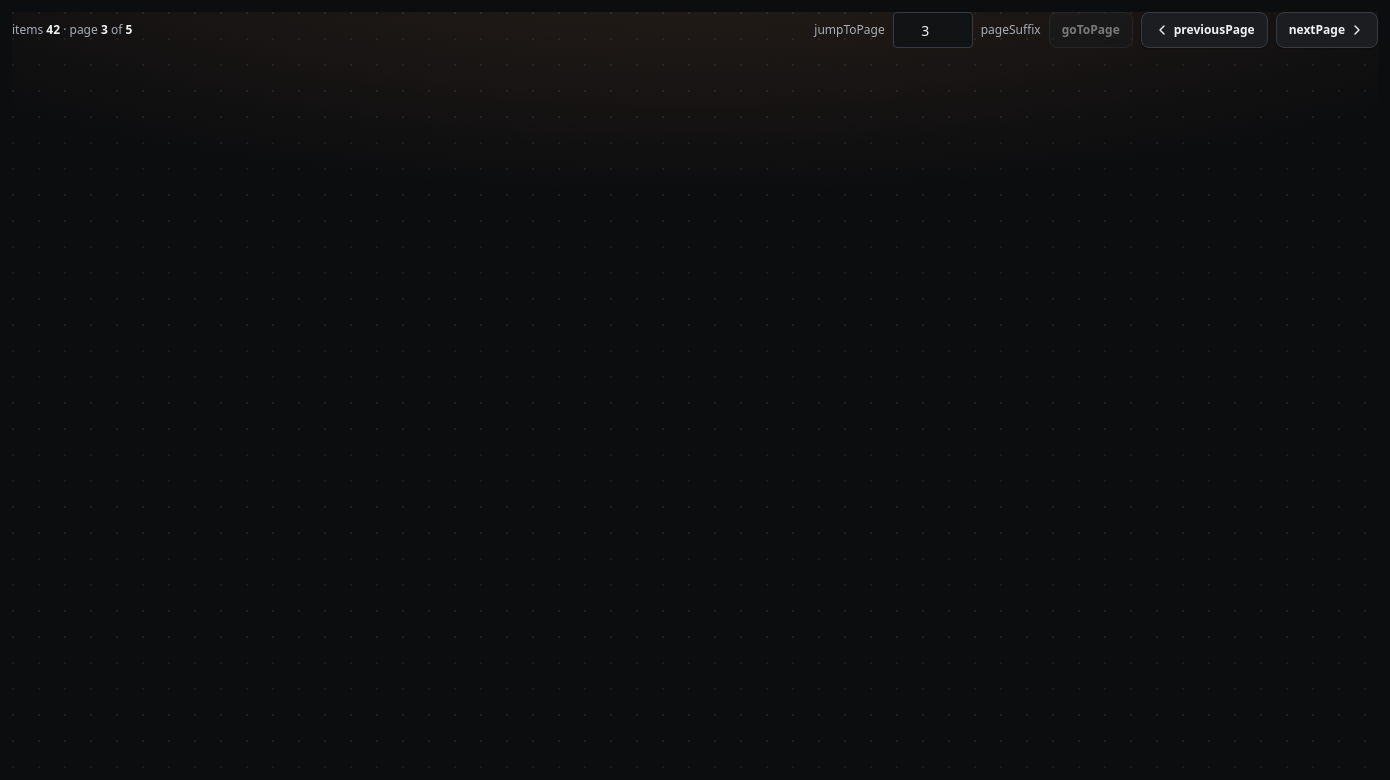
PaginationControls › resets invalid page drafts on blur and submit
The width and height of the screenshot is (1390, 780).
Clear the number field named "jumpToPageAria" at (933, 30), box [893,12,973,48]
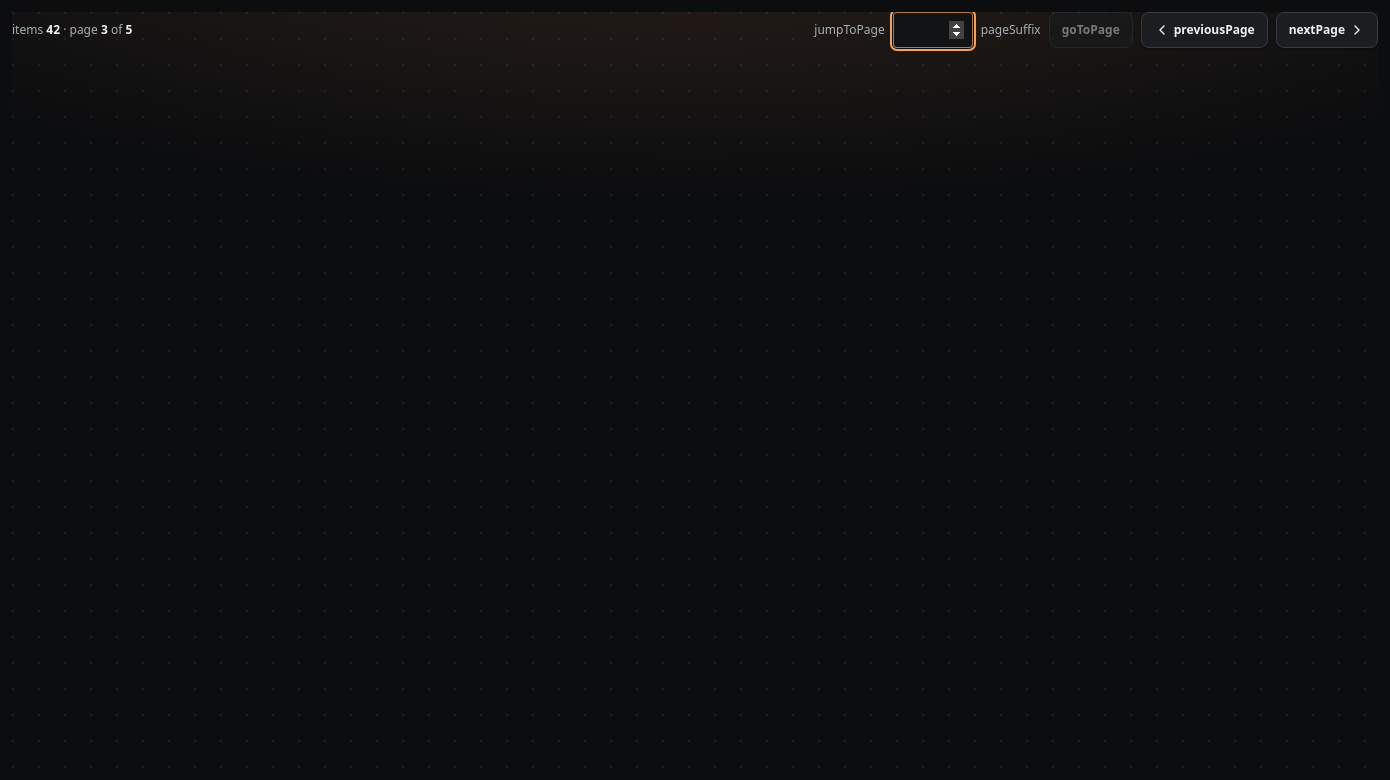
expect the button "goToPage" is disabled: met, box [1049,12,1133,48]
Leave the number field named "jumpToPageAria", box [893,12,973,48]
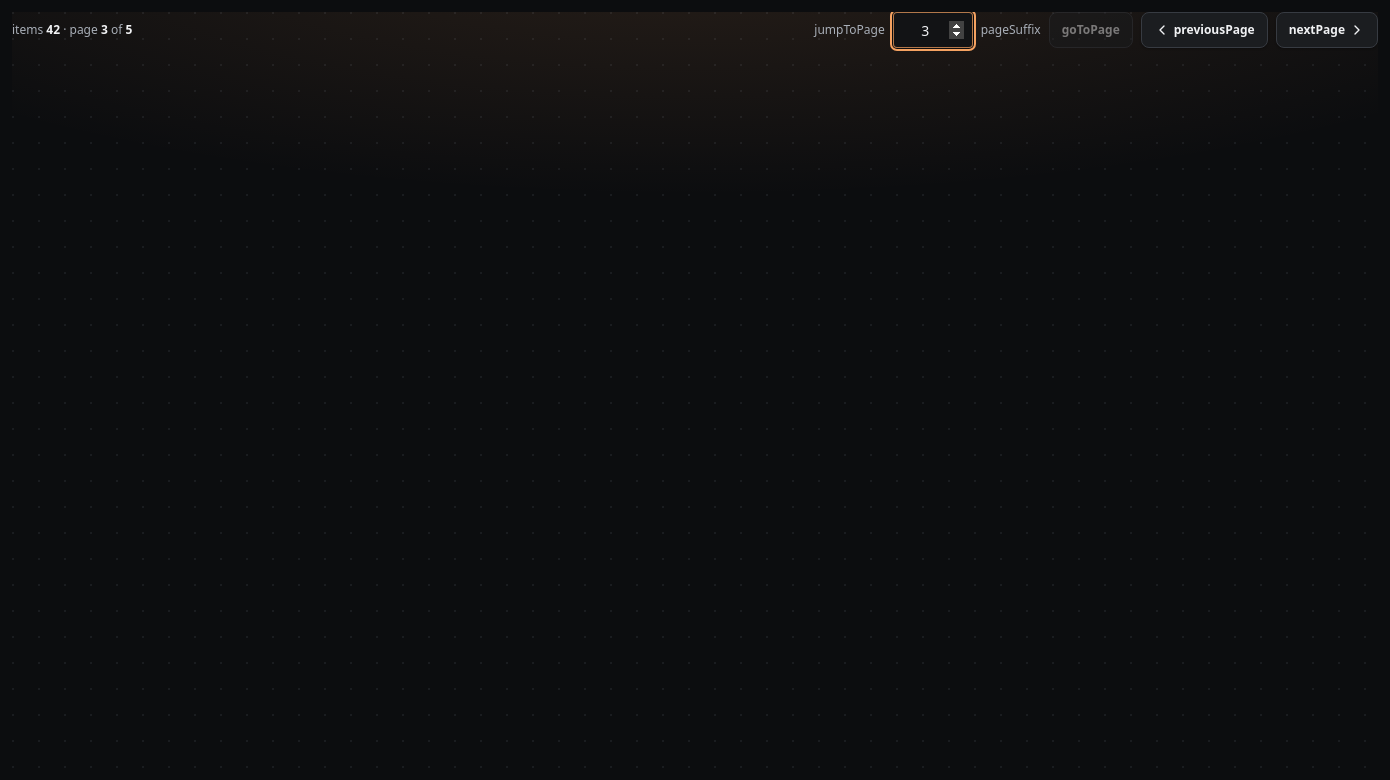
expect the number field named "jumpToPageAria" holds "3": met
Clear the number field named "jumpToPageAria" at (933, 30), box [893,12,973,48]
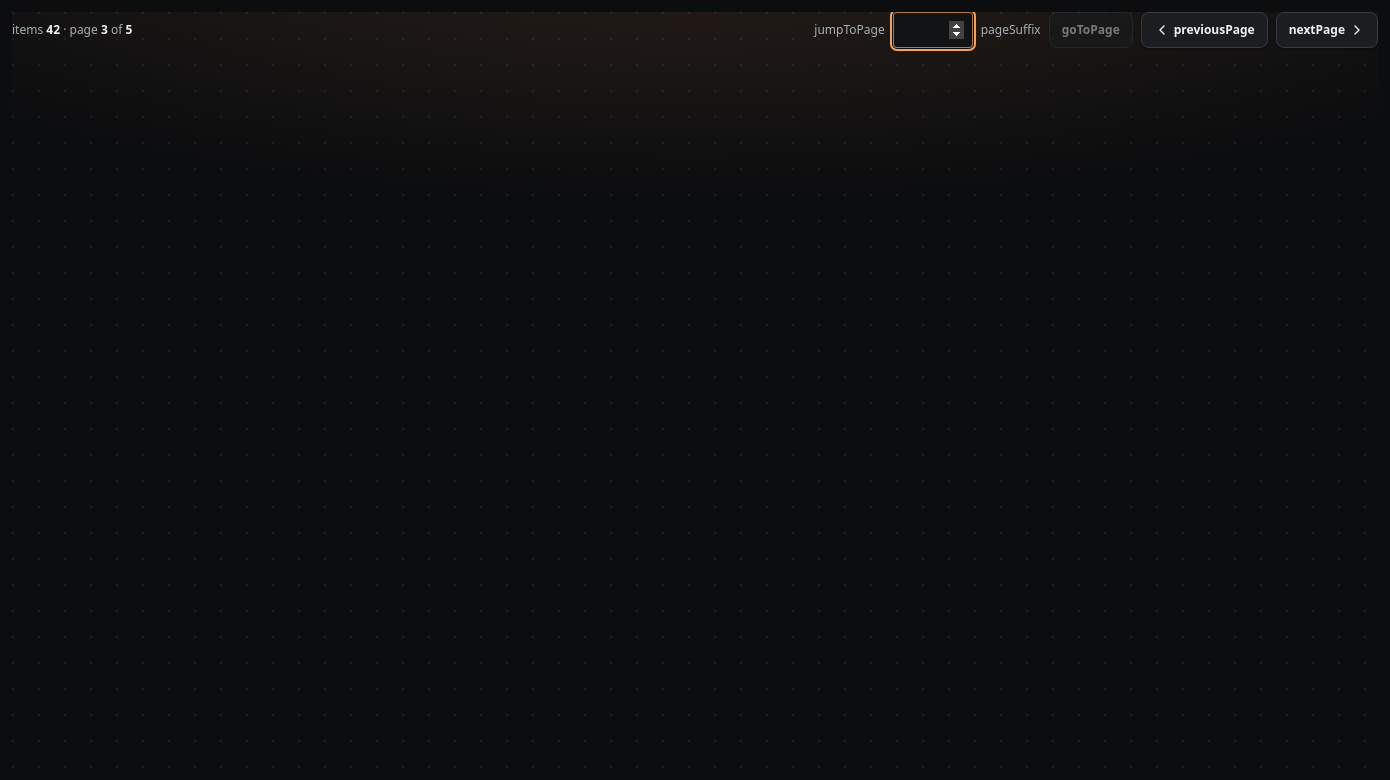
Submit the form named "jumpToPageAria", box [814,12,1378,48]
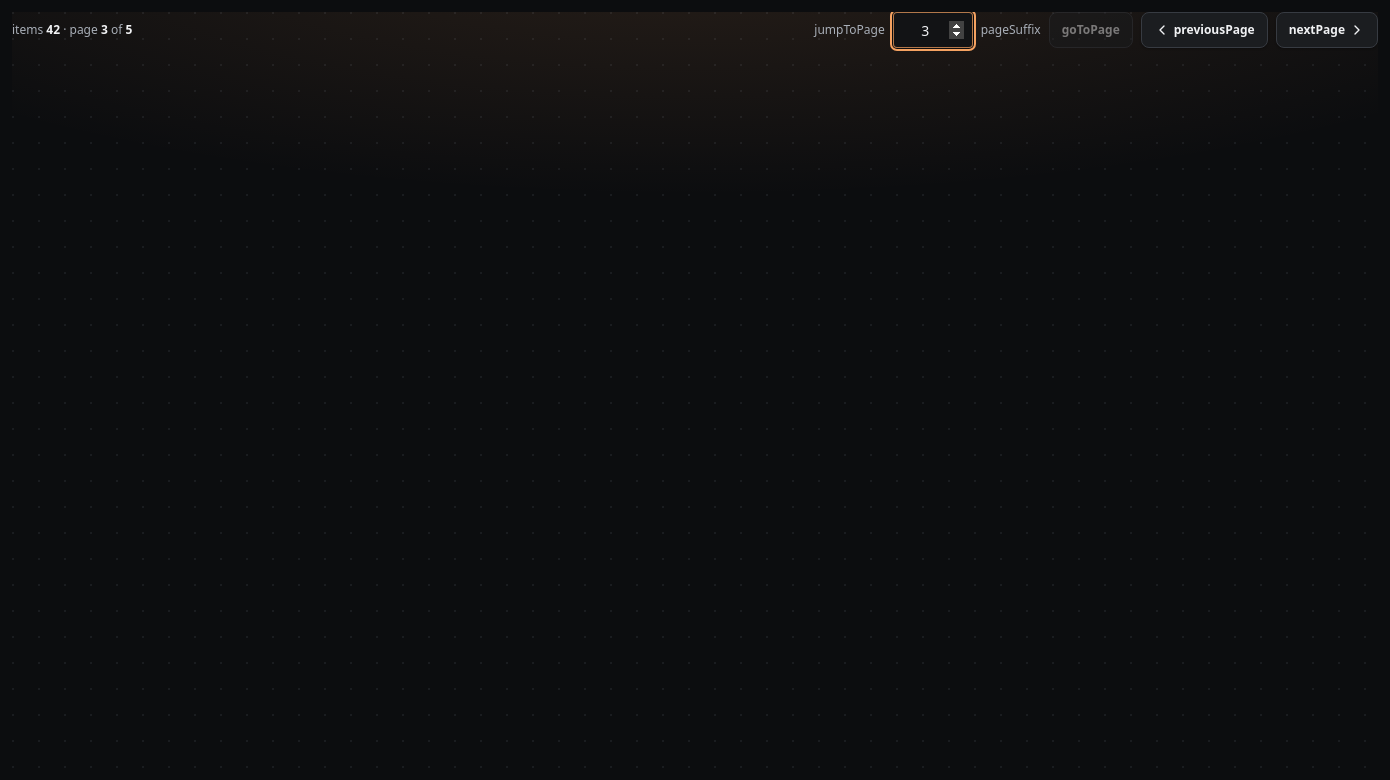
expect the number field named "jumpToPageAria" holds "3": met, box [893,12,973,48]
